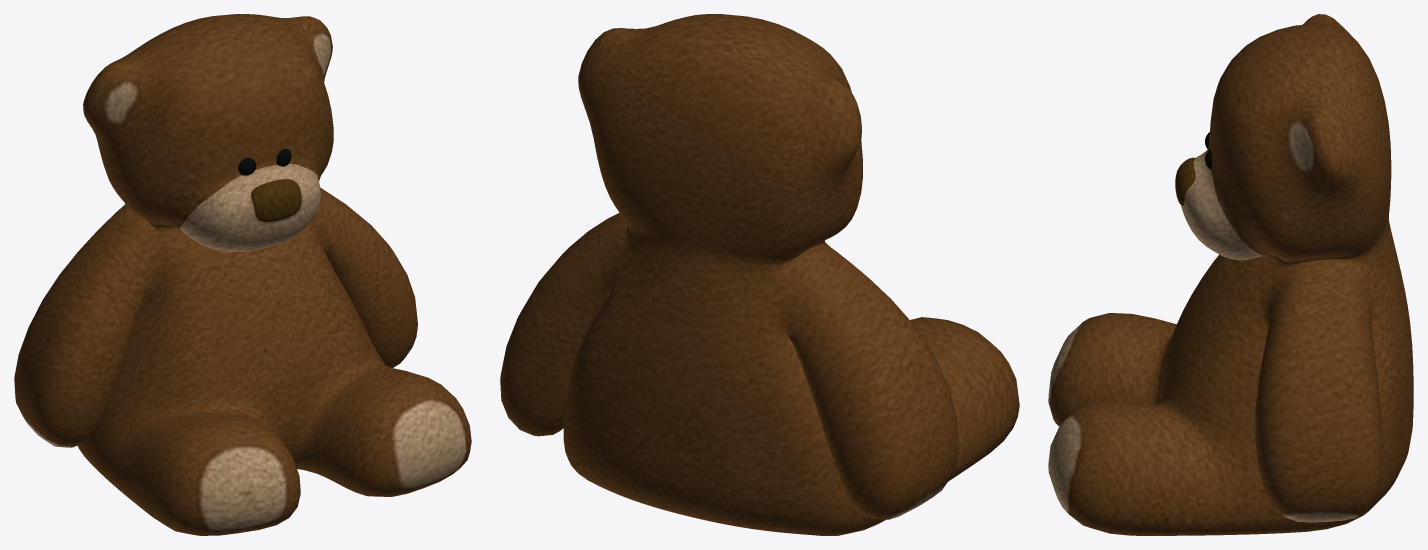
File: teddy.glb
3 views of the same model, side by side, from view 1: azimuth 30°, elevation 25°; view 2: azimuth 150°, elevation 25°; view 3: azimuth 270°, elevation 25° (orthographic). The views are drawn at different scales.
Visible parts, largest first — view 1: Cube; view 2: Cube; view 3: Cube.
Part boxes in pixels (box(x1,y1,x2,y2)): Cube: box(14, 14, 471, 535); Cube: box(500, 14, 1019, 535); Cube: box(1048, 14, 1413, 535).
Bounding box in the file's own units: 419 × 440 × 337.
2 materials, 1 textured.
